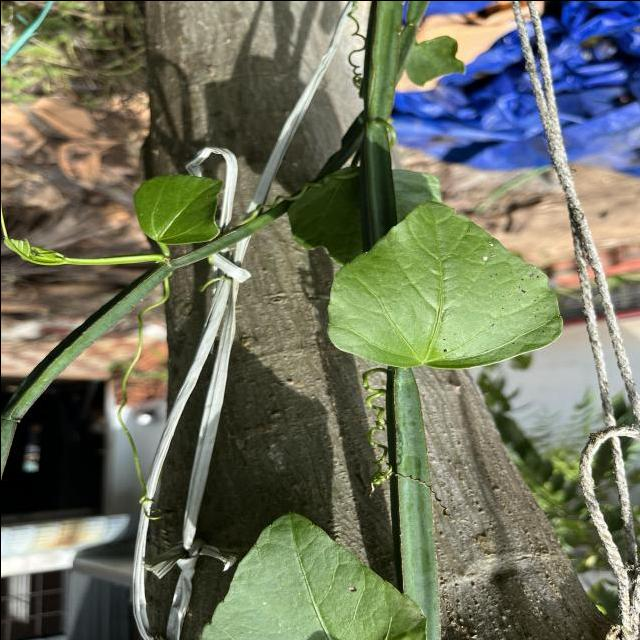Cissus quadrangularis: (322, 196, 566, 372)
